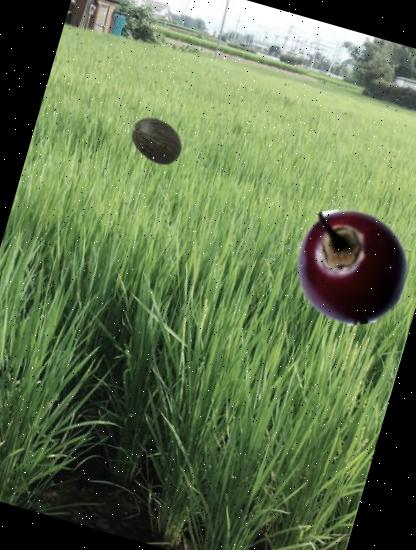Melon: (121, 108, 189, 176)
Tamarillo: (280, 193, 416, 338)
